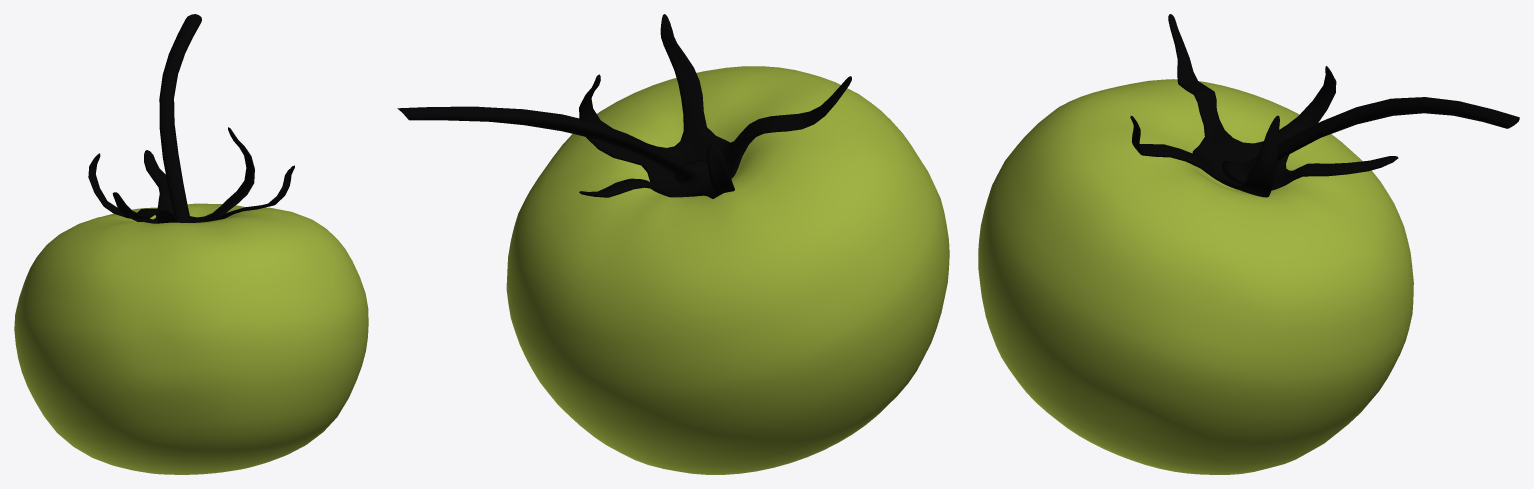
File: fruit1.FBX
The picture shows the model from 3 angles, left to right: view 1: azimuth 30°, elevation 25°; view 2: azimuth 150°, elevation 25°; view 3: azimuth 270°, elevation 25°; orthographic projection. The views are drawn at different scales.
Parts seen in each view (by area): view 1: fruit1; view 2: fruit1; view 3: fruit1.
Boxes of the visible parts, bbox=[...] form: fruit1: bbox=[14, 14, 368, 474]; fruit1: bbox=[397, 14, 949, 474]; fruit1: bbox=[978, 14, 1519, 474].
Bounding box in the file's own units: 30.88 × 31.31 × 37.94.
Materials: 2 (1 with a texture image).
